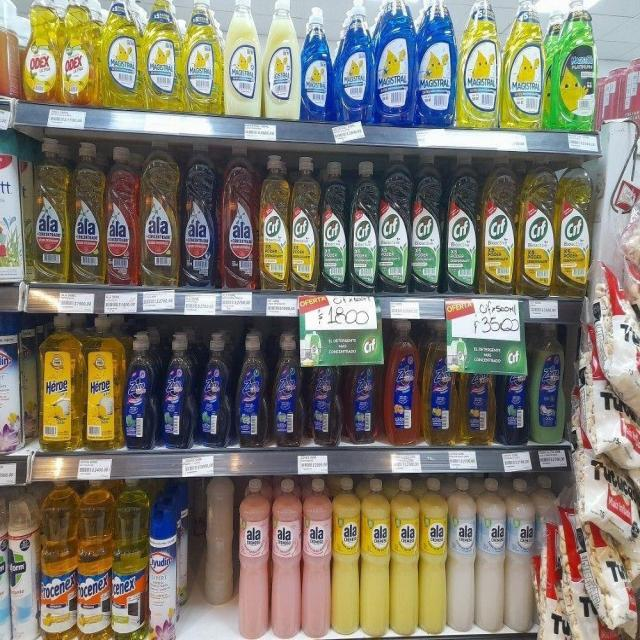ala_conc_amarillo: (140, 142, 179, 288), (33, 136, 69, 282), (70, 141, 104, 284)
ala_conc_azul: (180, 143, 218, 288)
ala_conc_rojo: (220, 145, 258, 290), (105, 144, 139, 287)
ala_crem_amarillo: (361, 476, 390, 638), (391, 477, 419, 639), (332, 476, 360, 638), (420, 477, 447, 636)
ala_crem_blanco: (476, 476, 505, 634), (506, 477, 535, 633), (448, 476, 476, 633)
ala_crem_rosado: (237, 477, 269, 640), (271, 477, 301, 640), (302, 476, 331, 639)
cif_conc_bot_amarilla: (481, 158, 517, 294), (556, 162, 592, 295), (520, 163, 554, 295), (259, 151, 289, 290), (290, 155, 320, 290)
cif_conc_botella_verde: (444, 154, 478, 294), (410, 154, 442, 294), (378, 154, 410, 294), (349, 159, 377, 294), (320, 159, 348, 292)
magistral_con_amarillo: (503, 0, 544, 130), (459, 0, 500, 130), (101, 0, 143, 109), (184, 0, 222, 114), (144, 0, 182, 111)
magistral_con_azul: (415, 0, 457, 128), (335, 0, 373, 123), (300, 5, 332, 122)
magistral_con_crema: (224, 0, 261, 118), (263, 0, 299, 119)
zorro: (384, 318, 420, 448), (422, 318, 457, 448)
